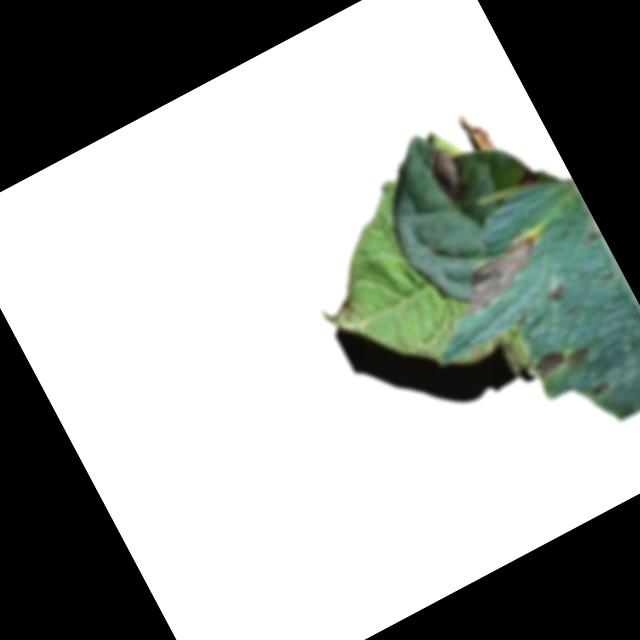Early_blight: (447, 233, 555, 319), (530, 336, 593, 384), (422, 145, 471, 205), (456, 108, 494, 156), (543, 281, 569, 305)
